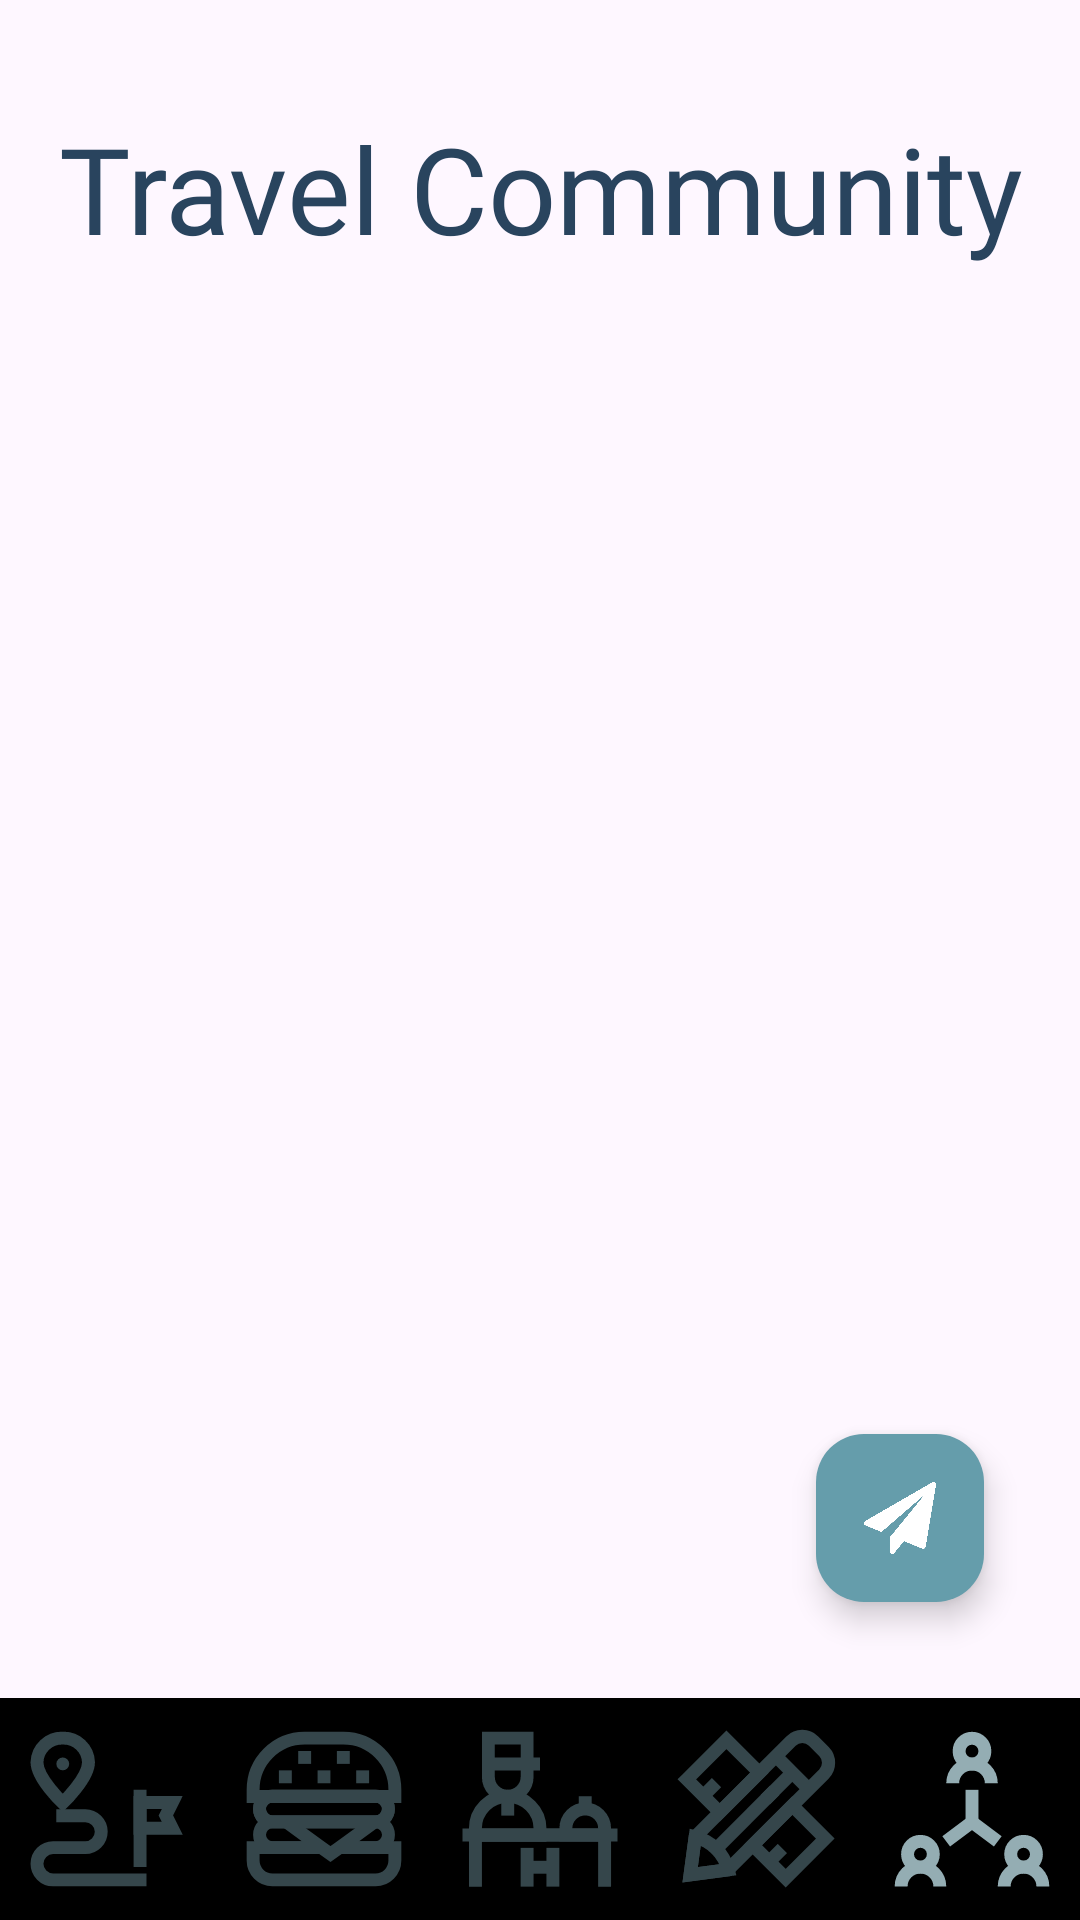

Screen size 1080×1920. Icon name, then its box in pixels as (x1, y1, x2, y2):
accommodations: (462, 1732, 618, 1887)
Add post: (816, 1434, 984, 1602)
destinations: (30, 1732, 183, 1886)
dining establishments: (246, 1732, 402, 1886)
logistics: (678, 1730, 835, 1887)
travel community: (894, 1731, 1050, 1887)
